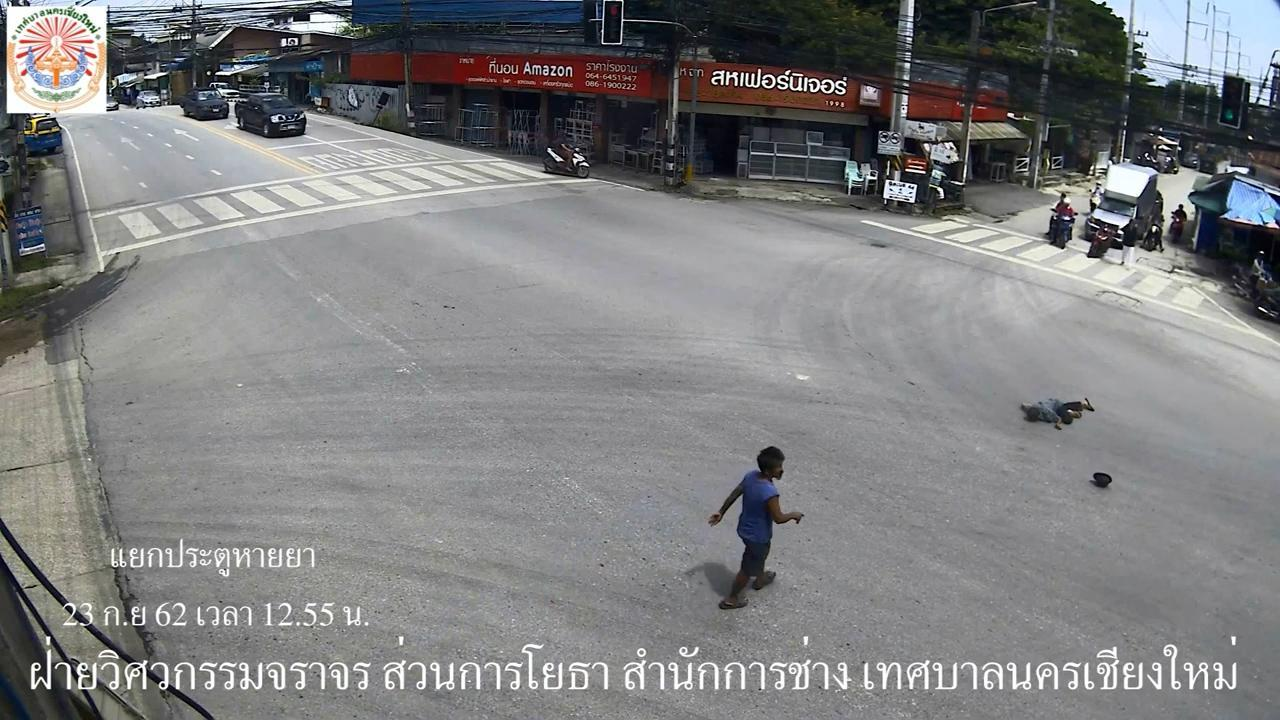accident: (1018, 388, 1097, 434)
